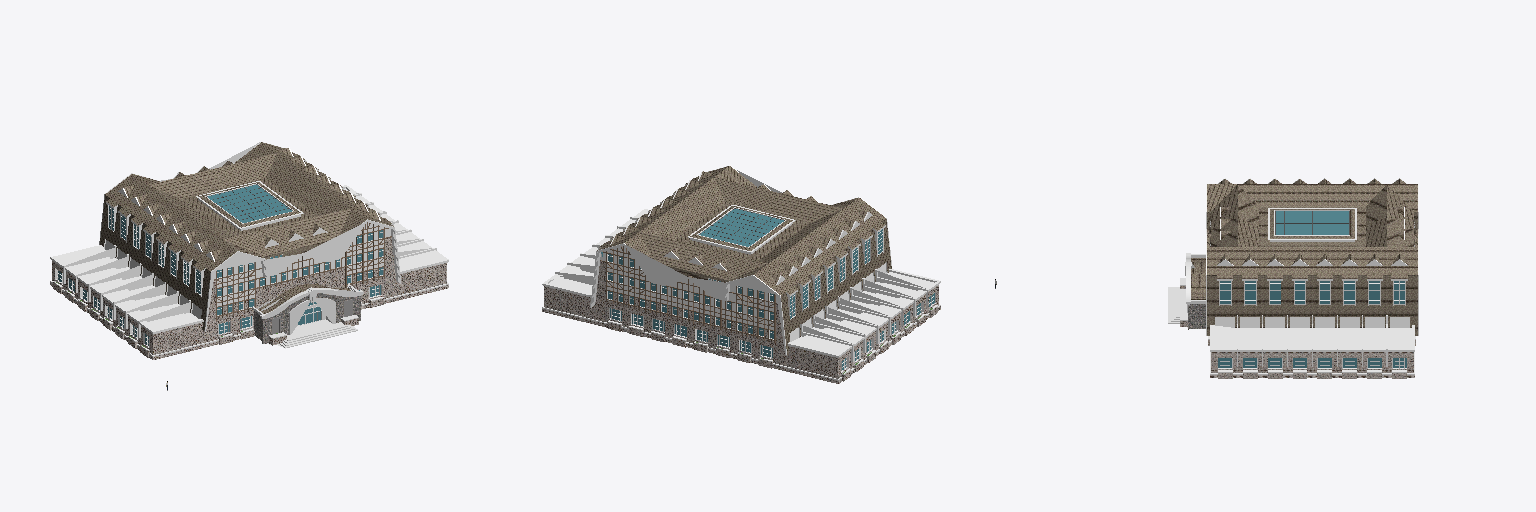
The picture shows the model from 3 angles: view 1: azimuth 30°, elevation 25°; view 2: azimuth 150°, elevation 25°; view 3: azimuth 270°, elevation 25°; orthographic projection.
Parts seen in each view (by area): view 1: Mesh233 G_1_dwg2 ___4_1 ___25_1 Model, Mesh108 G_1_dwg1 ___4_1 ___25_1 Model, Mesh253 ___24_1 ___25_1 Model, Mesh252 ___15_1 ___4_1 ___25_1 Model, Mesh107 ___23_1 G_1_dwg1 ___4_1 ___25_1 Model, Mesh232 ___23_2 G_1_dwg2 ___4_1 ___25_1 Model; view 2: Mesh233 G_1_dwg2 ___4_1 ___25_1 Model, Mesh108 G_1_dwg1 ___4_1 ___25_1 Model, Mesh252 ___15_1 ___4_1 ___25_1 Model, Mesh209 ___17_2 G_1_dwg2 ___4_1 ___25_1 Model, Mesh84 ___17_1 G_1_dwg1 ___4_1 ___25_1 Model; view 3: Mesh108 G_1_dwg1 ___4_1 ___25_1 Model, Mesh233 G_1_dwg2 ___4_1 ___25_1 Model, Mesh252 ___15_1 ___4_1 ___25_1 Model, Mesh253 ___24_1 ___25_1 Model.
Boxes of the visible parts, box(x1,y1,x2,y2) form: Mesh233 G_1_dwg2 ___4_1 ___25_1 Model: box(50, 169, 302, 359); Mesh108 G_1_dwg1 ___4_1 ___25_1 Model: box(209, 142, 448, 308); Mesh253 ___24_1 ___25_1 Model: box(252, 284, 363, 348); Mesh252 ___15_1 ___4_1 ___25_1 Model: box(196, 181, 303, 230); Mesh107 ___23_1 G_1_dwg1 ___4_1 ___25_1 Model: box(301, 222, 391, 287); Mesh232 ___23_2 G_1_dwg2 ___4_1 ___25_1 Model: box(214, 259, 300, 319); Mesh233 G_1_dwg2 ___4_1 ___25_1 Model: box(688, 193, 940, 383); Mesh108 G_1_dwg1 ___4_1 ___25_1 Model: box(542, 165, 781, 347); Mesh252 ___15_1 ___4_1 ___25_1 Model: box(688, 205, 795, 254); Mesh209 ___17_2 G_1_dwg2 ___4_1 ___25_1 Model: box(691, 283, 776, 342); Mesh84 ___17_1 G_1_dwg1 ___4_1 ___25_1 Model: box(600, 246, 690, 321); Mesh108 G_1_dwg1 ___4_1 ___25_1 Model: box(1206, 216, 1418, 377); Mesh233 G_1_dwg2 ___4_1 ___25_1 Model: box(1206, 184, 1418, 233); Mesh252 ___15_1 ___4_1 ___25_1 Model: box(1268, 208, 1356, 241); Mesh253 ___24_1 ___25_1 Model: box(1168, 253, 1205, 329).
Bounding box in the file's own units: 59127 × 16000 × 44723.
17 materials, 3 textured.